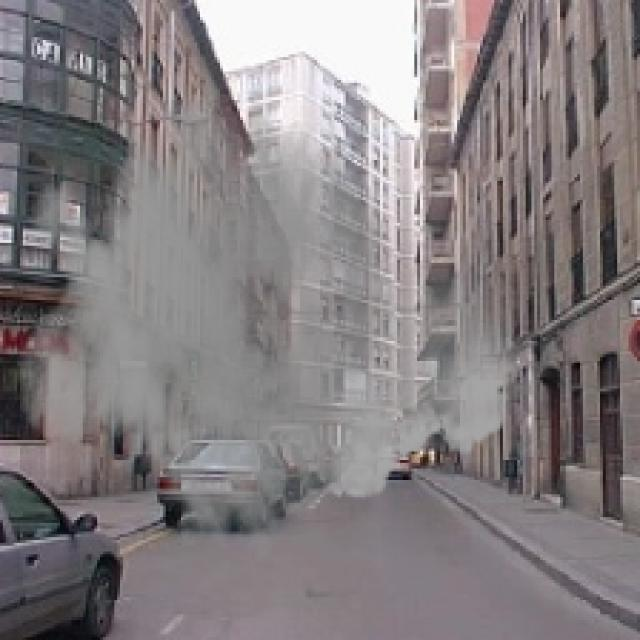Smoke: (14, 40, 534, 566)
